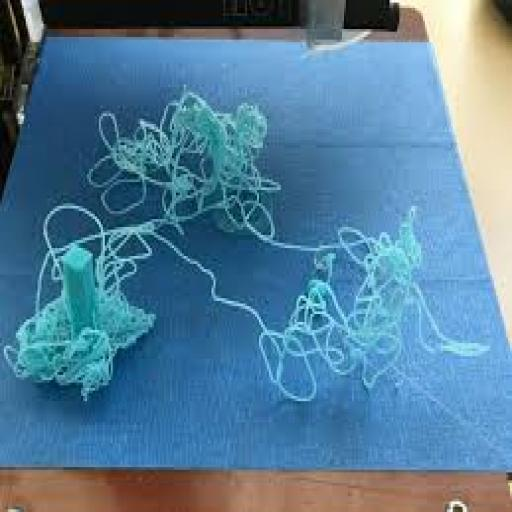spaghetti: (234, 196, 500, 369), (88, 67, 296, 233), (21, 215, 150, 381)
